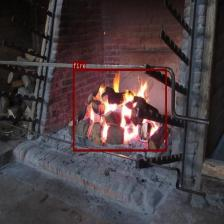fire: (72, 68, 167, 151)
